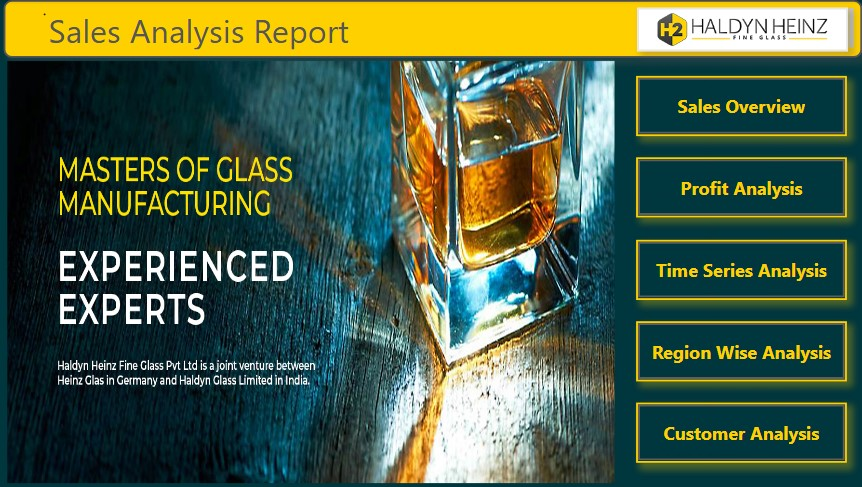

The dashboard page shown, as its layout file describes it:
{"tool":"powerbi","page":{"name":"Welcome Page","canvas":[1280,720],"ordinal":0},"visuals":[{"type":"textbox","box":[9.4,0,1269.8,85],"z":0},{"type":"image","box":[946.7,11.3,311.8,64.2],"z":1000},{"type":"image","box":[9.4,85,908.9,634.9],"z":2000},{"type":"actionButton","title":"Sales Overview","box":[945.6,112.8,312,88.8],"z":3000},{"type":"actionButton","title":"Sales Overview","box":[945.6,233.4,312,88.8],"z":4000},{"type":"actionButton","title":"Sales Overview","box":[945.6,354,312,88.8],"z":5000},{"type":"actionButton","title":"Sales Overview","box":[945.6,474.6,312,88.8],"z":6000},{"type":"actionButton","title":"Sales Overview","box":[945.6,595.2,312,88.8],"z":7000}]}

Visuals, with their boxes in screenshot pixels (x1, y1, x2, y2), scaled from the page's 1280x720 canvas onto the 862x487 screenshot:
textbox: {"x1": 6, "y1": 0, "x2": 861, "y2": 57}
image: {"x1": 638, "y1": 8, "x2": 848, "y2": 51}
image: {"x1": 6, "y1": 57, "x2": 618, "y2": 486}
"Sales Overview" actionButton: {"x1": 637, "y1": 76, "x2": 847, "y2": 136}
"Sales Overview" actionButton: {"x1": 637, "y1": 158, "x2": 847, "y2": 218}
"Sales Overview" actionButton: {"x1": 637, "y1": 239, "x2": 847, "y2": 300}
"Sales Overview" actionButton: {"x1": 637, "y1": 321, "x2": 847, "y2": 381}
"Sales Overview" actionButton: {"x1": 637, "y1": 403, "x2": 847, "y2": 463}
